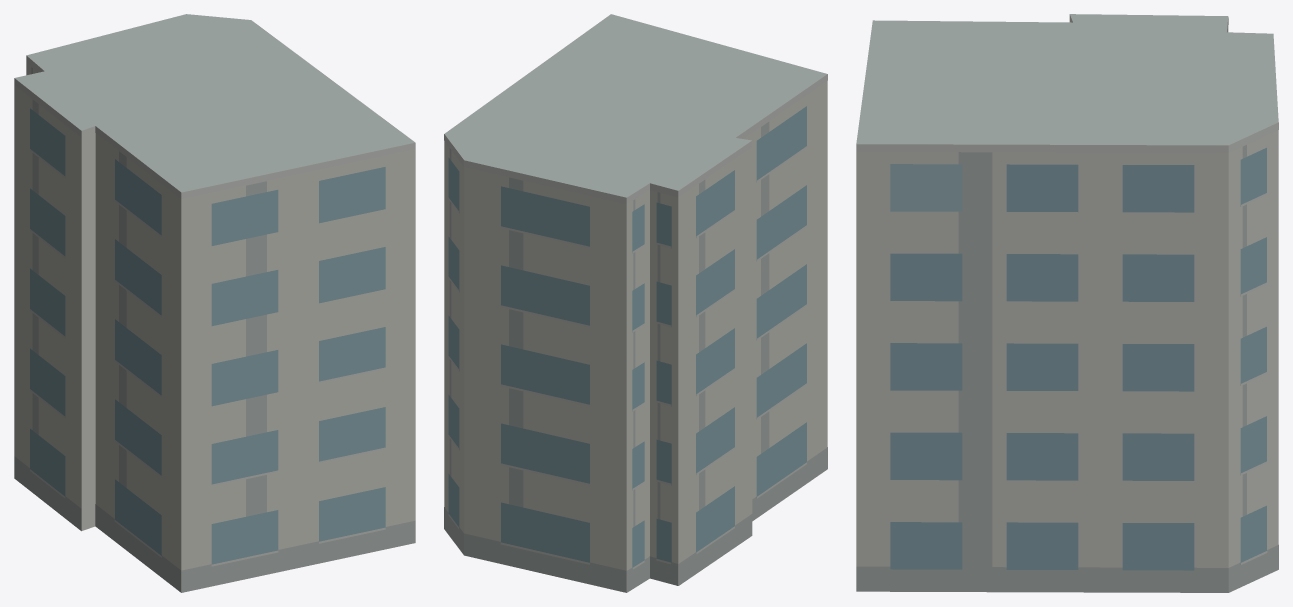
Rendered from survey-upis-32690028.glb.
The picture shows the model from 3 angles, left to right: view 1: azimuth 30°, elevation 25°; view 2: azimuth 150°, elevation 25°; view 3: azimuth 270°, elevation 25°; orthographic projection. The views are drawn at different scales.
Parts seen in each view (by area): view 1: survey-upis-32690028.tmp; view 2: survey-upis-32690028.tmp; view 3: survey-upis-32690028.tmp.
Boxes of the visible parts, bbox=[...] form: survey-upis-32690028.tmp: bbox=[14, 14, 415, 592]; survey-upis-32690028.tmp: bbox=[444, 14, 827, 592]; survey-upis-32690028.tmp: bbox=[856, 14, 1278, 592].
Size of the model in its own units: 8.96 by 14.22 by 12.18.
